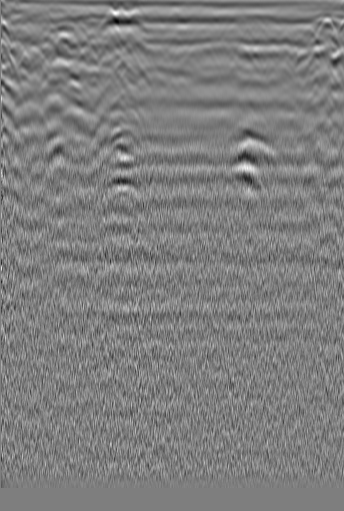가스: (95, 173, 142, 209)
상수: (2, 26, 41, 58)
오수: (305, 16, 338, 48)
우수: (155, 24, 184, 56)
